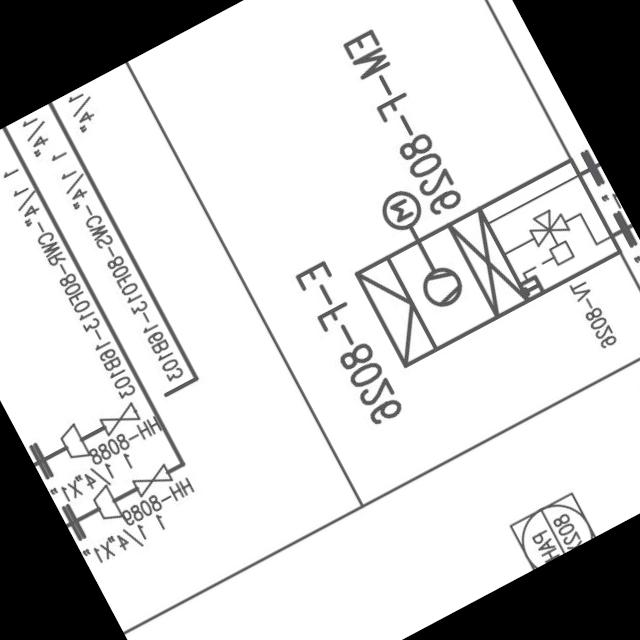3W: (524, 202, 575, 248)
GV: (124, 456, 180, 500), (93, 398, 142, 438)
M: (374, 182, 426, 237)
P: (414, 260, 468, 312)
SP: (82, 477, 126, 528), (52, 418, 95, 466)
